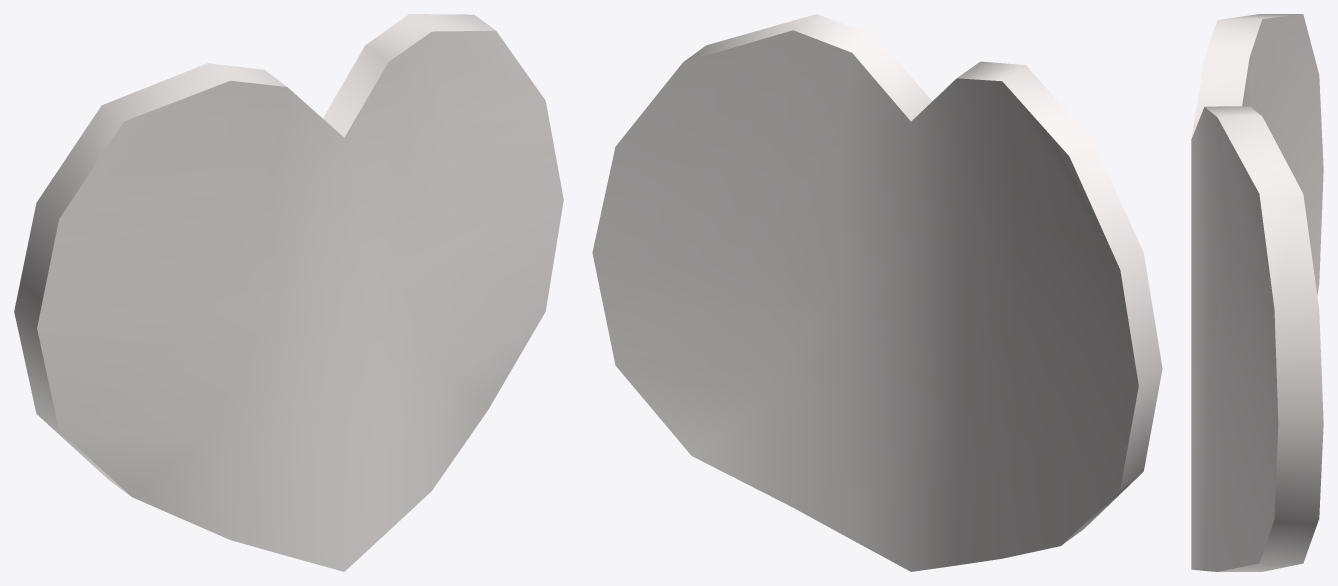
The model's file is mask_03.fbx.
3 views of the same model, side by side, from view 1: azimuth 30°, elevation 25°; view 2: azimuth 150°, elevation 25°; view 3: azimuth 270°, elevation 25° (orthographic). The views are drawn at different scales.
Visible parts, largest first — view 1: Mask_03; view 2: Mask_03; view 3: Mask_03.
Part boxes in pixels (box(x1,y1,x2,y2)): Mask_03: box(14, 14, 563, 571); Mask_03: box(592, 14, 1162, 571); Mask_03: box(1191, 14, 1323, 571).
Bounding box in the file's own units: 121 × 111 × 26.62.
